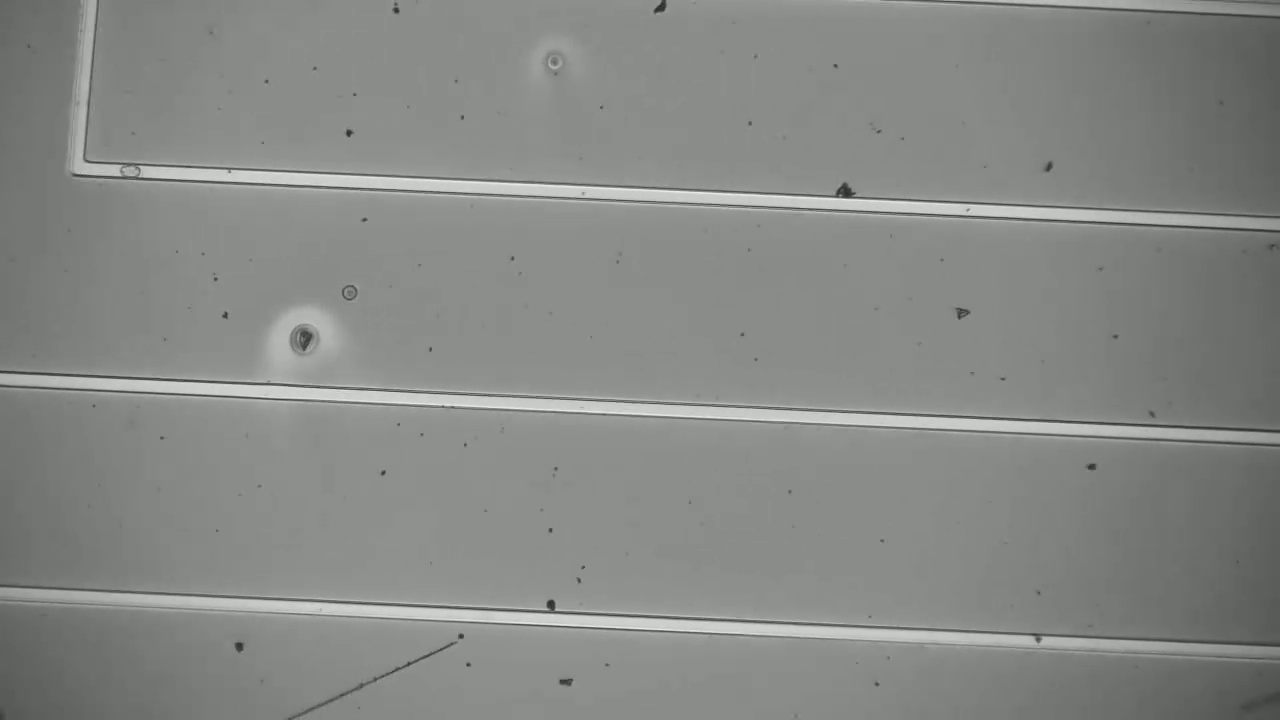scratch: (277, 636, 464, 719)
